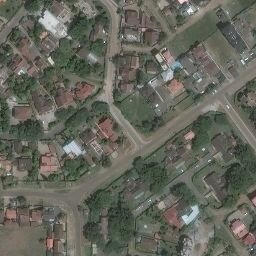tree: (214, 113, 226, 123), (101, 157, 111, 167), (93, 63, 102, 74), (48, 173, 58, 181), (112, 123, 120, 131), (142, 120, 149, 129)
